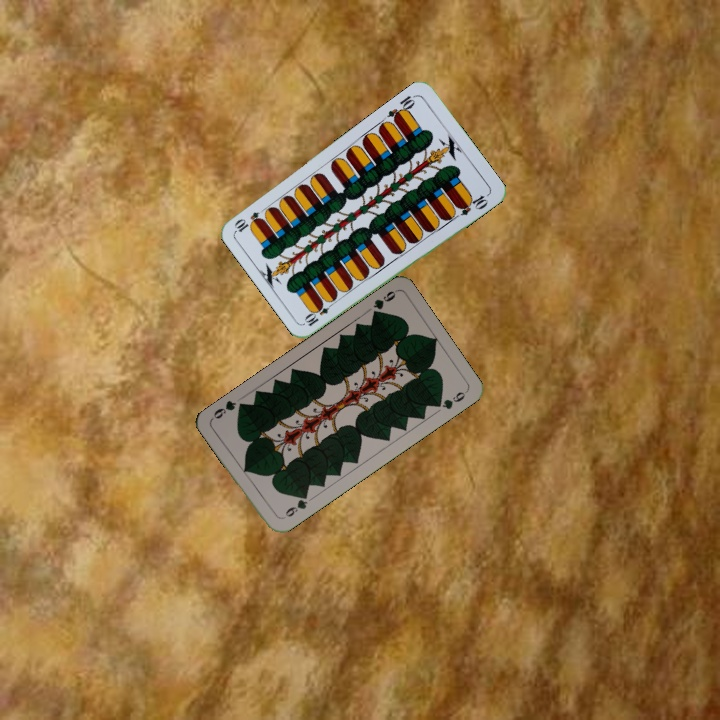E10: (383, 91, 419, 124), (301, 297, 337, 329)
G9: (277, 490, 310, 522), (368, 286, 399, 320)
